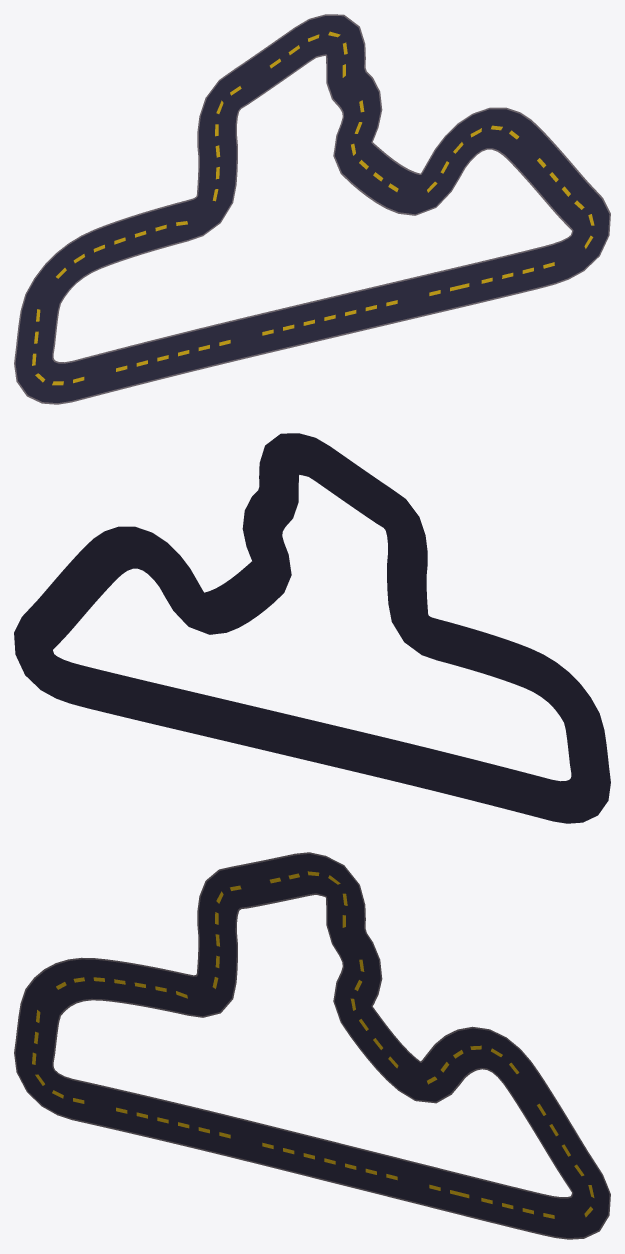
Rendered from track.obj.
3 renders of one model, top to bottom at view 1: azimuth 30°, elevation 25°; view 2: azimuth 150°, elevation 25°; view 3: azimuth 330°, elevation 25°, orthographic.
Bounding box in the file's own units: 16.06 × 8.4 × 0.002.
